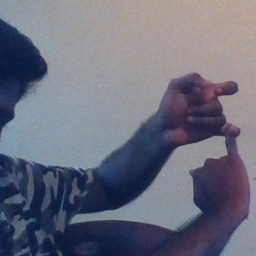S: (142, 57, 251, 215)
